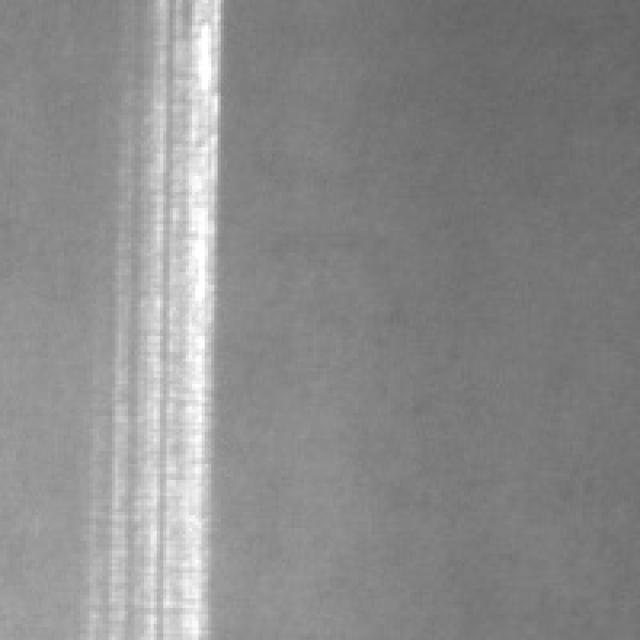scratches: (105, 0, 211, 630)
